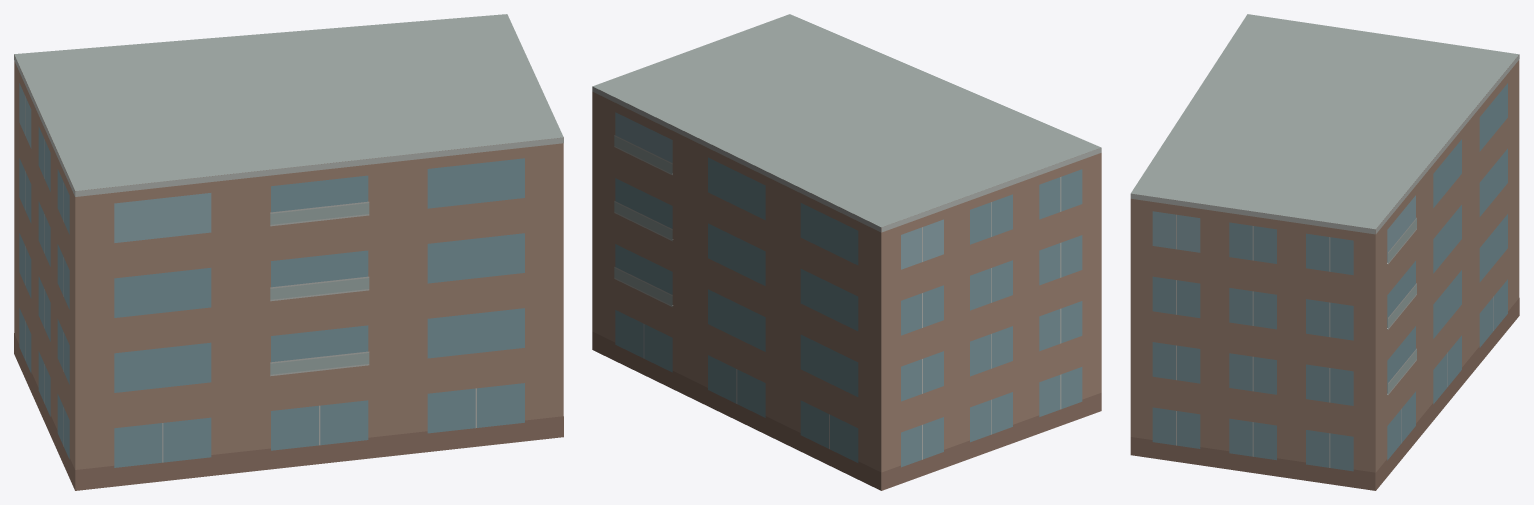
The model's file is survey-upis-32913290.glb.
3 views of the same model, side by side, from view 1: azimuth 30°, elevation 25°; view 2: azimuth 150°, elevation 25°; view 3: azimuth 270°, elevation 25° (orthographic). The views are drawn at different scales.
Parts seen in each view (by area): view 1: survey-upis-32913290.tmp; view 2: survey-upis-32913290.tmp; view 3: survey-upis-32913290.tmp.
Boxes of the visible parts, left/top/right/bottom form: survey-upis-32913290.tmp: left=14, top=14, right=563, bottom=490; survey-upis-32913290.tmp: left=592, top=14, right=1101, bottom=490; survey-upis-32913290.tmp: left=1130, top=14, right=1519, bottom=490.
Size of the model in its own units: 21.9 by 12.4 by 16.71.
